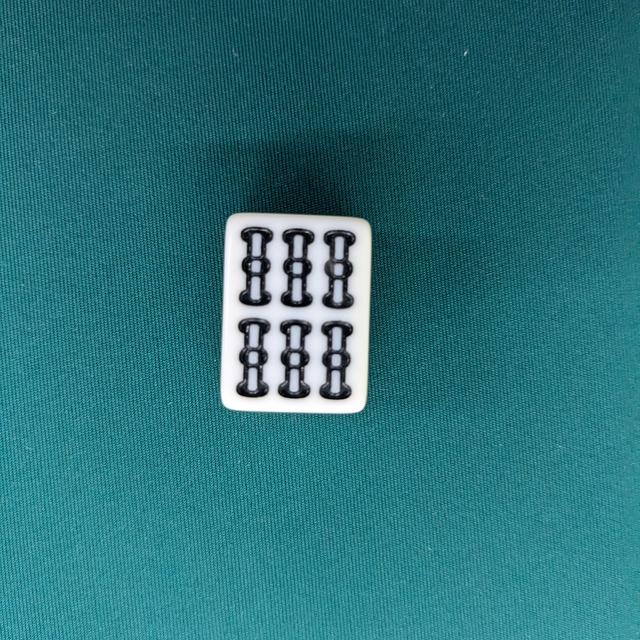6s: (223, 210, 373, 415)
